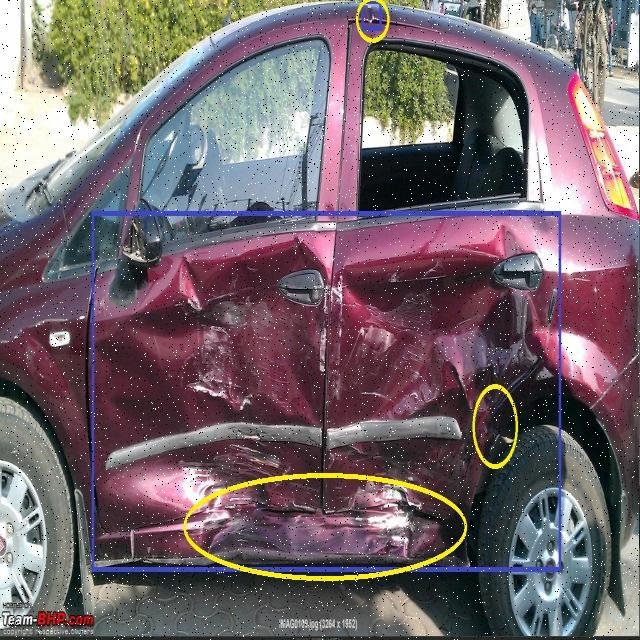RunningBoard-Dent: (86, 509, 290, 578), (285, 503, 472, 572)
doorouter-dent: (335, 212, 582, 518), (88, 219, 330, 510)
pillar-dent: (319, 0, 375, 238)
